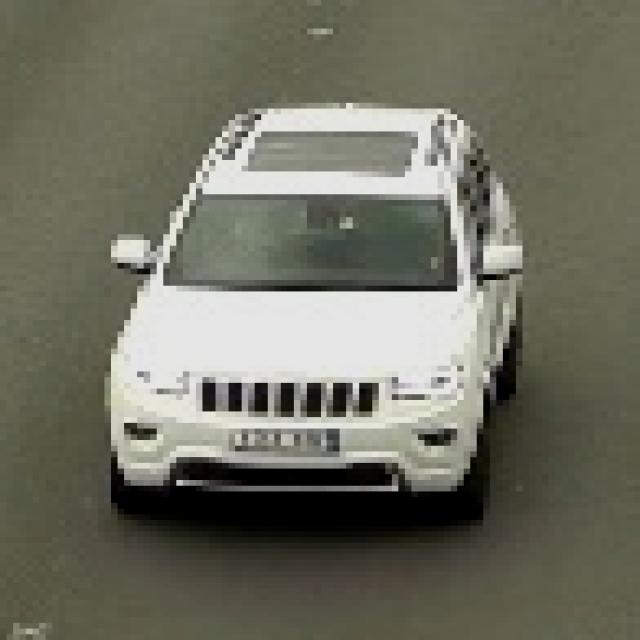SUV: (117, 116, 494, 516)
